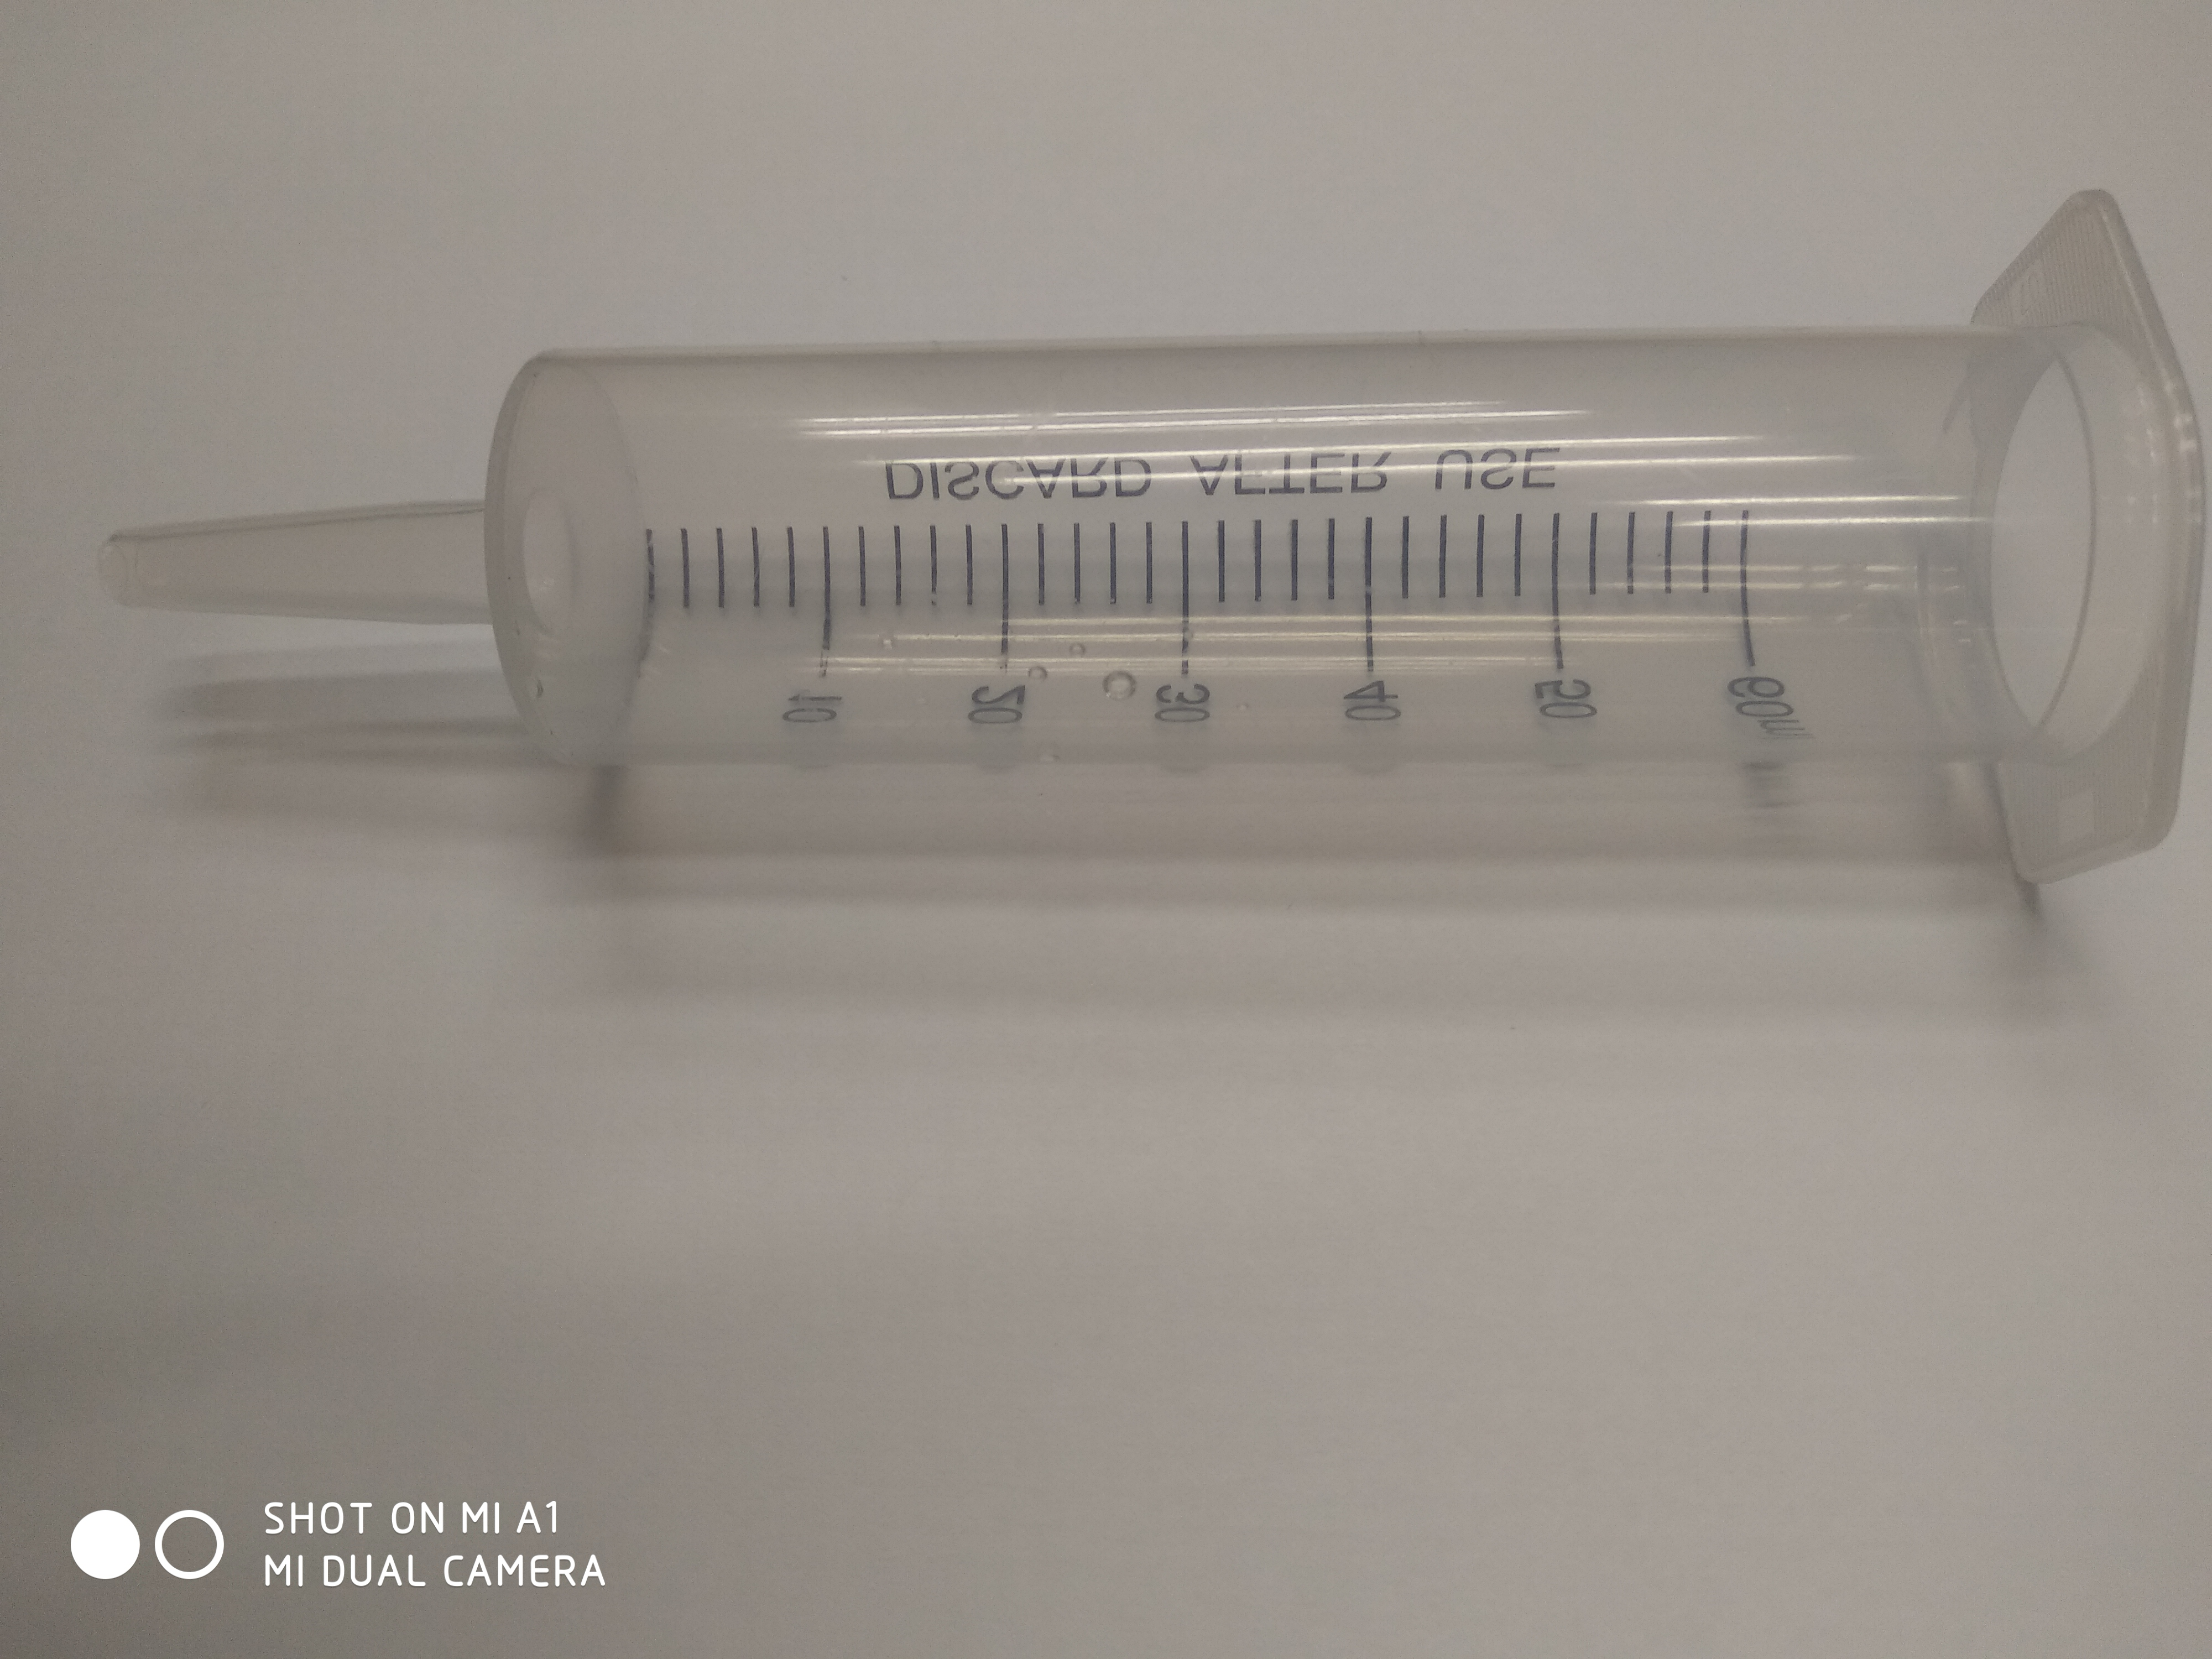syringe: (85, 183, 2207, 882)
